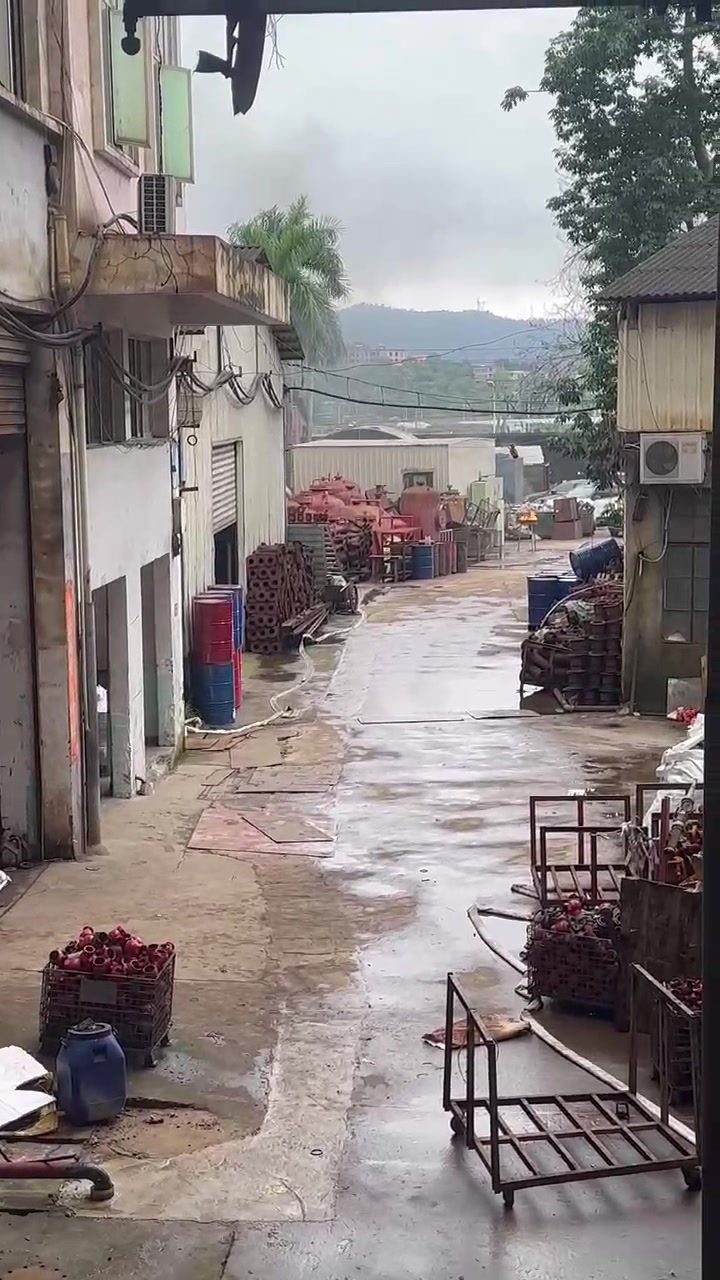fire: (518, 511, 537, 520)
